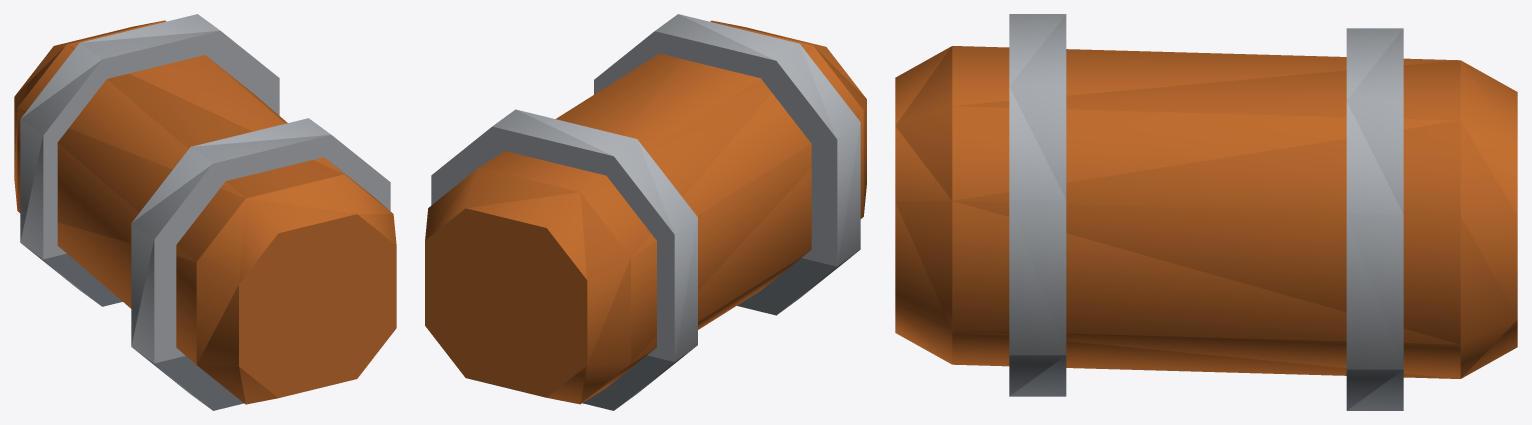
File: Kit_container-flat.fbx
3 views of the same model, side by side, from view 1: azimuth 30°, elevation 25°; view 2: azimuth 150°, elevation 25°; view 3: azimuth 270°, elevation 25° (orthographic). The views are drawn at different scales.
Visible parts, largest first — view 1: Kit_container-flat; view 2: Kit_container-flat; view 3: Kit_container-flat.
Boxes of the visible parts, x1=… form: Kit_container-flat: x1=14, y1=14, x2=396, y2=410; Kit_container-flat: x1=425, y1=14, x2=866, y2=410; Kit_container-flat: x1=895, y1=14, x2=1517, y2=410.
Size of the model in its own units: 0.6595 by 0.6 by 1.09.
